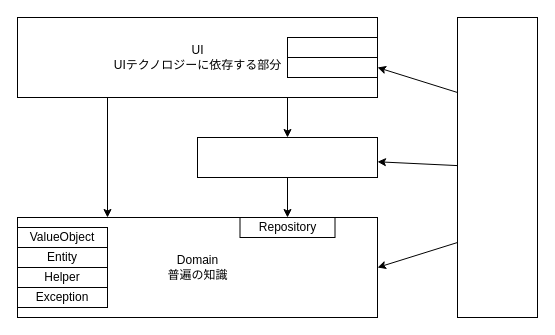
The diagram is 555 pixels wide and 335 high, and some of its shapes have lost their labels. Here are the shapes that lost their labels. From the top down, the box of each, then its label:
(286, 36, 378, 58): View
(286, 56, 378, 78): ViewModel
(196, 136, 378, 178): Infrastructure 外部ソースに依存する部分
(456, 16, 538, 318): Test
